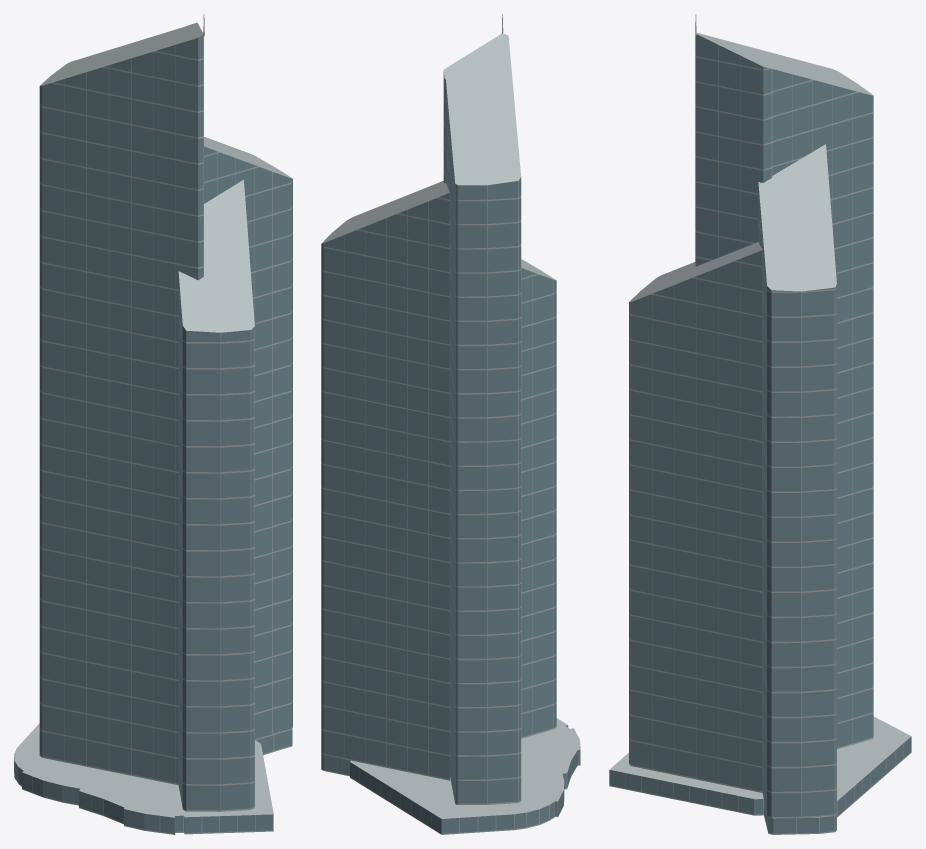
The model's file is tour-first-far.glb.
3 views of the same model, side by side, from view 1: azimuth 30°, elevation 25°; view 2: azimuth 150°, elevation 25°; view 3: azimuth 270°, elevation 25° (orthographic). The views are drawn at different scales.
Parts seen in each view (by area): view 1: tour-first-0-glass, tour-first-0-frame, tour-first-0-roof; view 2: tour-first-0-glass, tour-first-0-frame, tour-first-0-roof; view 3: tour-first-0-glass, tour-first-0-frame, tour-first-0-roof.
Part boxes in pixels (box(x1,y1,x2,y2)): tour-first-0-glass: box(14, 35, 292, 833); tour-first-0-frame: box(14, 36, 292, 834); tour-first-0-roof: box(14, 14, 292, 817); tour-first-0-glass: box(321, 71, 579, 833); tour-first-0-frame: box(321, 73, 580, 834); tour-first-0-roof: box(322, 14, 580, 818); tour-first-0-glass: box(609, 34, 911, 833); tour-first-0-frame: box(609, 45, 911, 834); tour-first-0-roof: box(609, 14, 911, 818).
Size of the model in its own units: 76.33 by 231 by 83.22.
